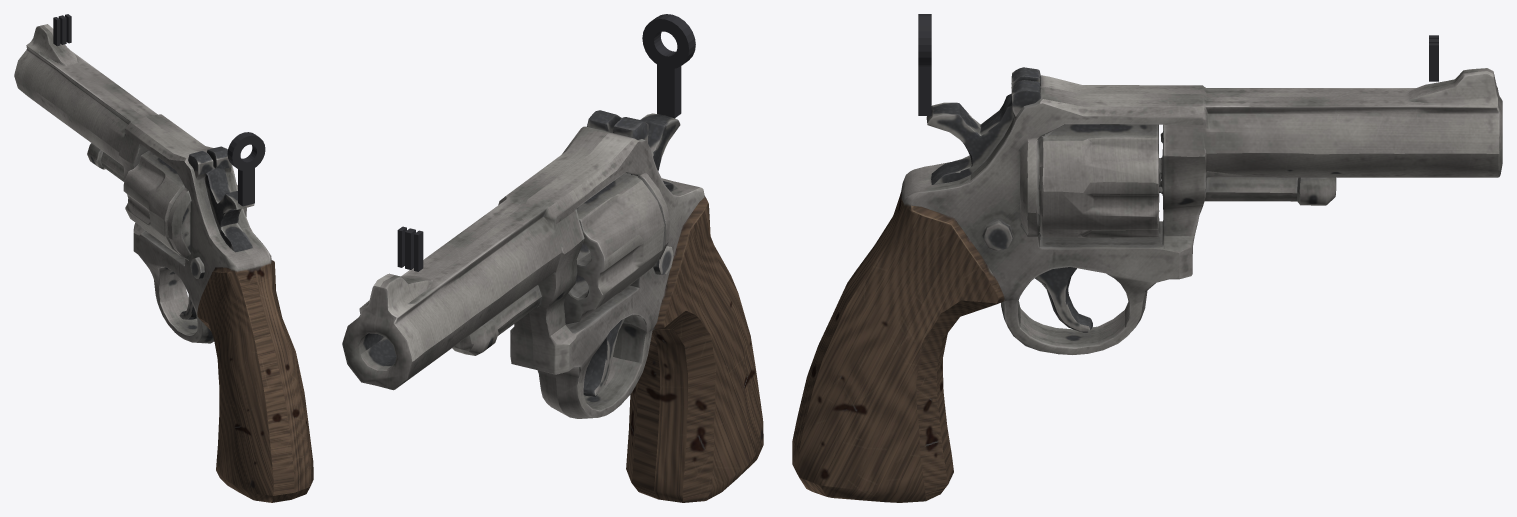
Rendered from revolver.glb.
3 renders of one model, left to right at view 1: azimuth 30°, elevation 25°; view 2: azimuth 150°, elevation 25°; view 3: azimuth 270°, elevation 25°, orthographic. The views are drawn at different scales.
Parts seen in each view (by area): view 1: revolver_world, rear_ring, rear_stem; view 2: revolver_world, rear_ring, rear_stem; view 3: revolver_world.
Part boxes in pixels (x1,y1,x2,y2): revolver_world: [14, 24, 313, 502]; rear_ring: [227, 132, 265, 170]; rear_stem: [238, 166, 254, 206]; revolver_world: [342, 110, 763, 502]; rear_ring: [642, 14, 695, 68]; rear_stem: [657, 62, 681, 118]; revolver_world: [792, 67, 1502, 502].
Bounding box in the file's own units: 0.0578 × 0.2333 × 0.321.
2 materials, 1 textured.
